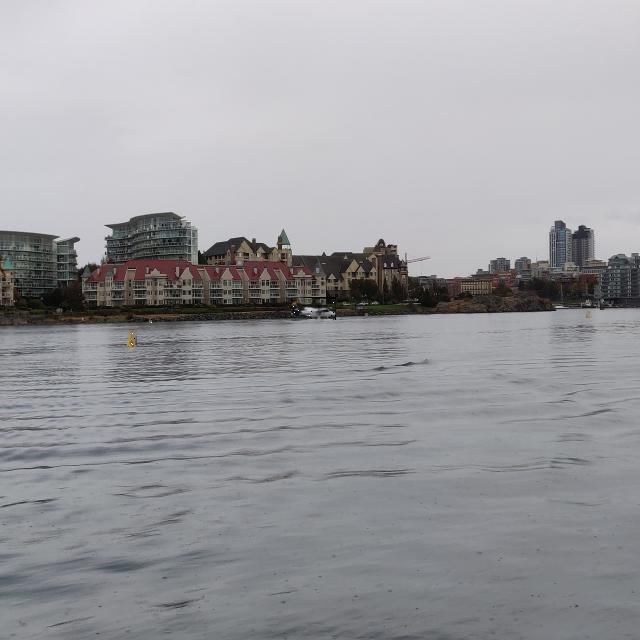aircraft: (290, 297, 336, 320)
mark: (127, 331, 137, 345), (600, 292, 604, 310), (586, 311, 590, 318), (149, 316, 152, 323), (365, 313, 368, 317)
